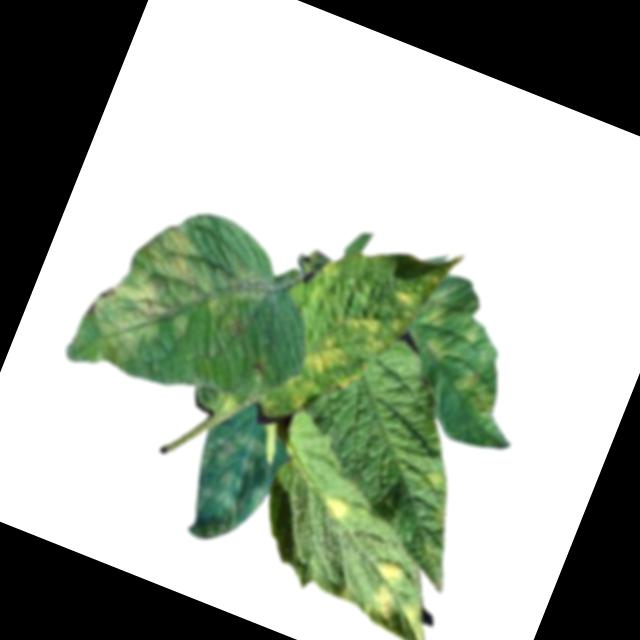Leaf_Mold: (72, 206, 278, 414), (393, 280, 535, 427), (165, 419, 291, 560), (350, 556, 449, 640), (297, 329, 373, 396), (333, 306, 396, 357), (315, 486, 356, 525), (413, 456, 451, 496), (386, 281, 422, 313)
